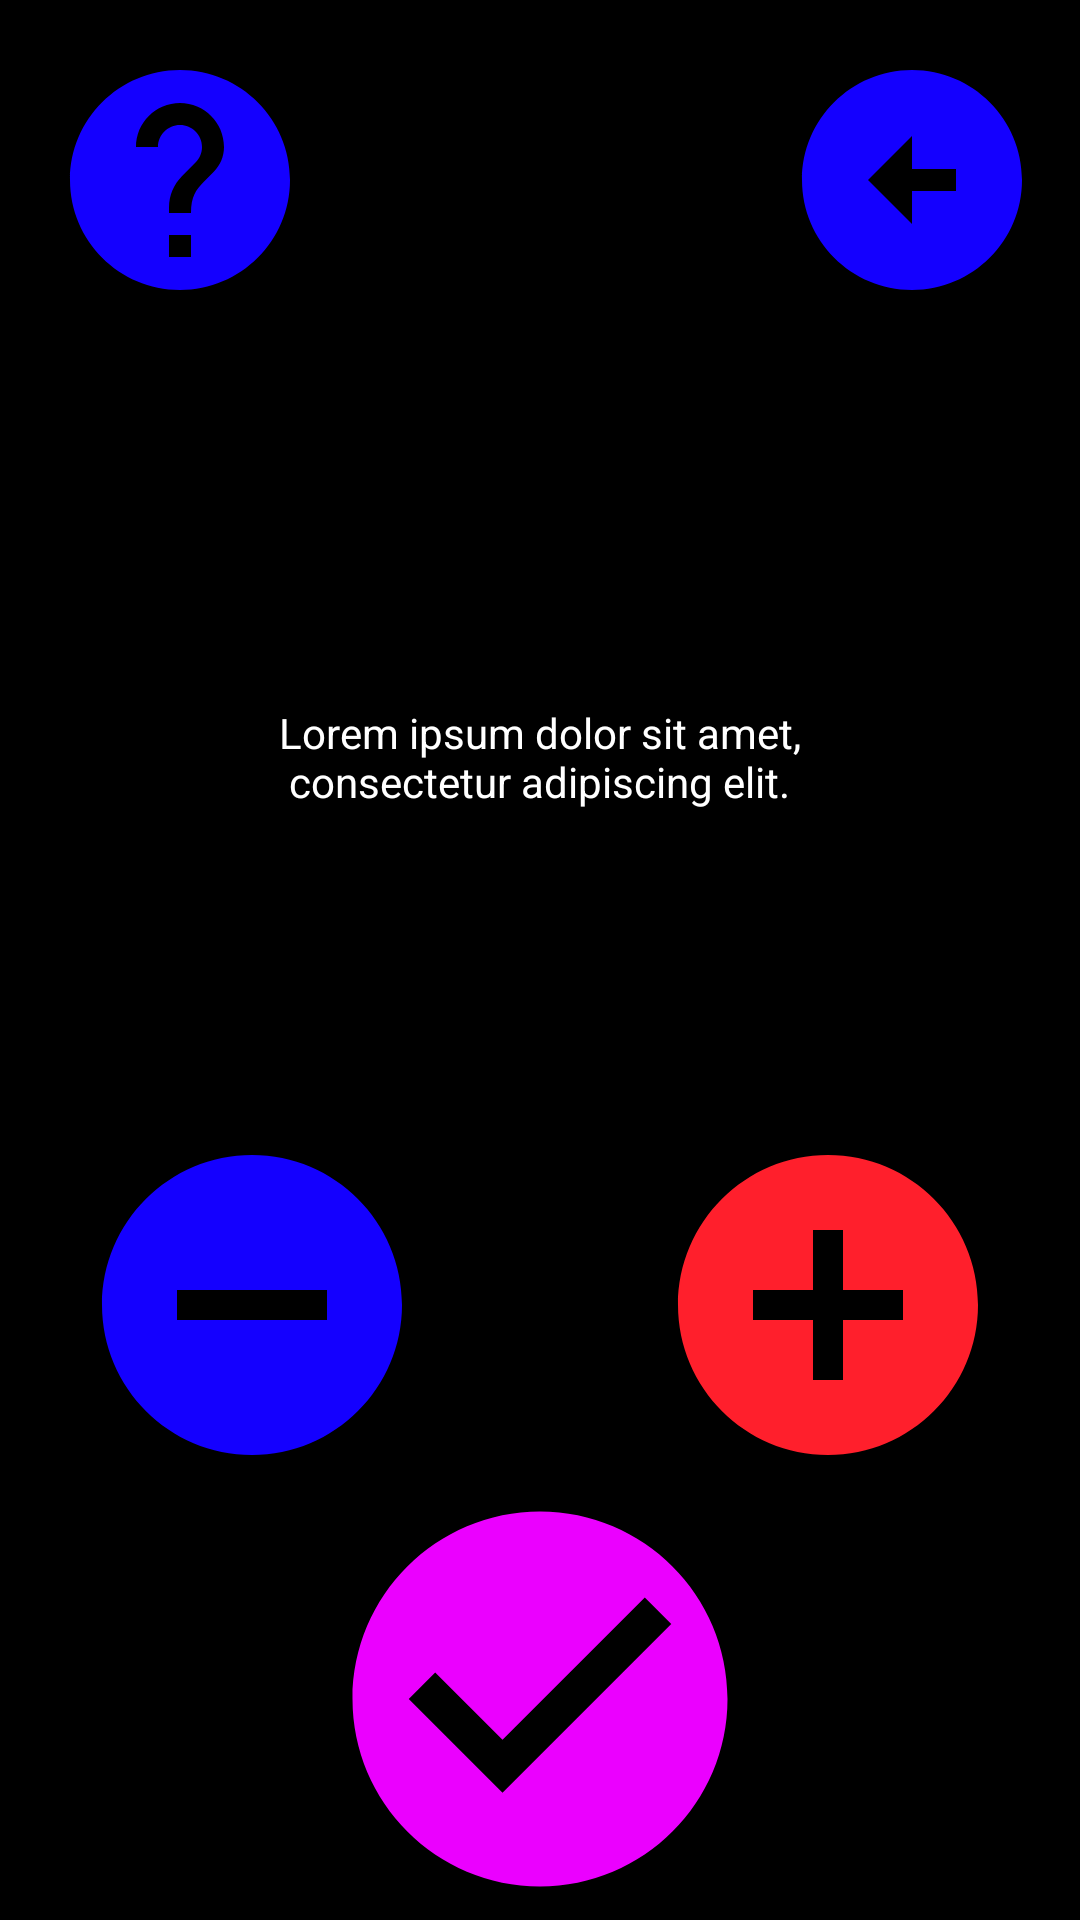

Screen size 1080×1920. Icon name, then its center in pixels as (x=x, y=y):
add: (x=828, y=1305)
arrow: (x=911, y=180)
helper: (x=179, y=180)
remove: (x=252, y=1305)
